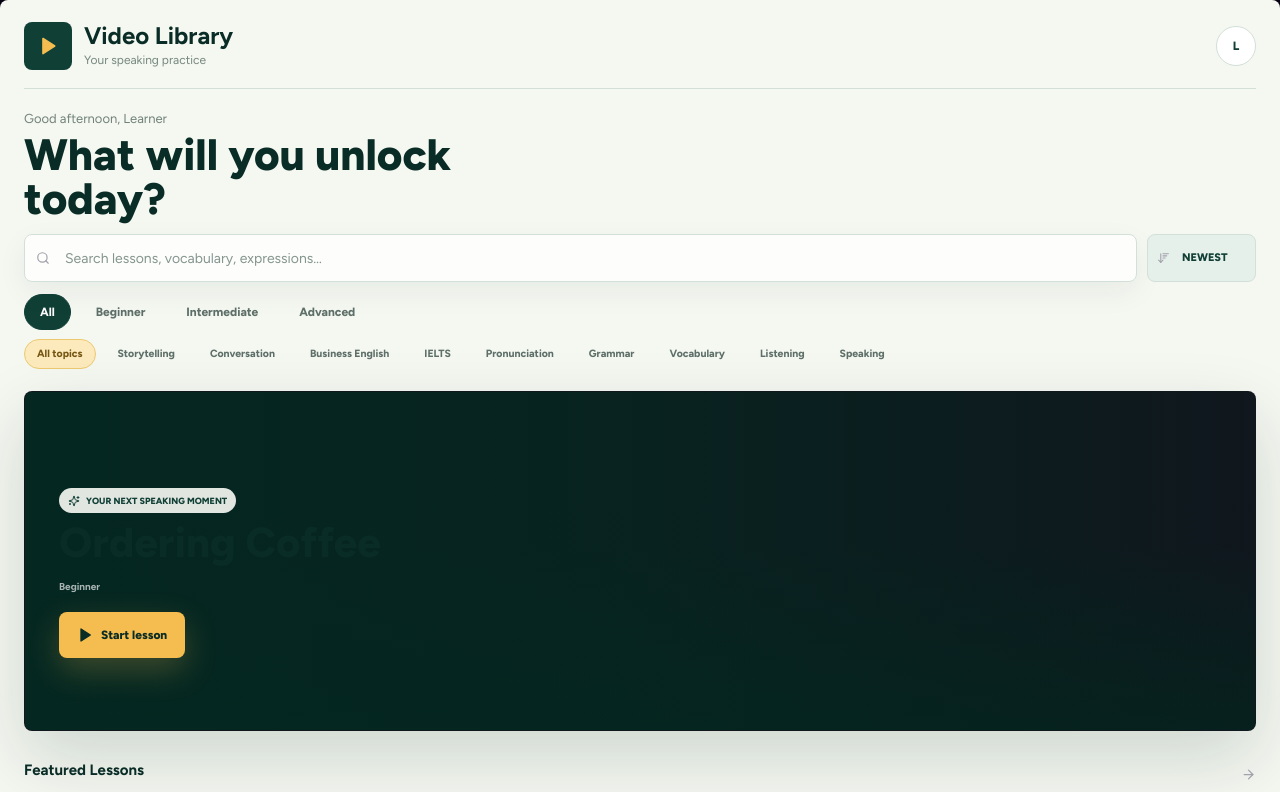
Test: clearing the search box removes the query and shows the search-specific empty state
Type "zzz-no-match" into the field with test id "video-library-search-input" at (580, 258), box x1=24 y1=234 x2=1137 y2=282
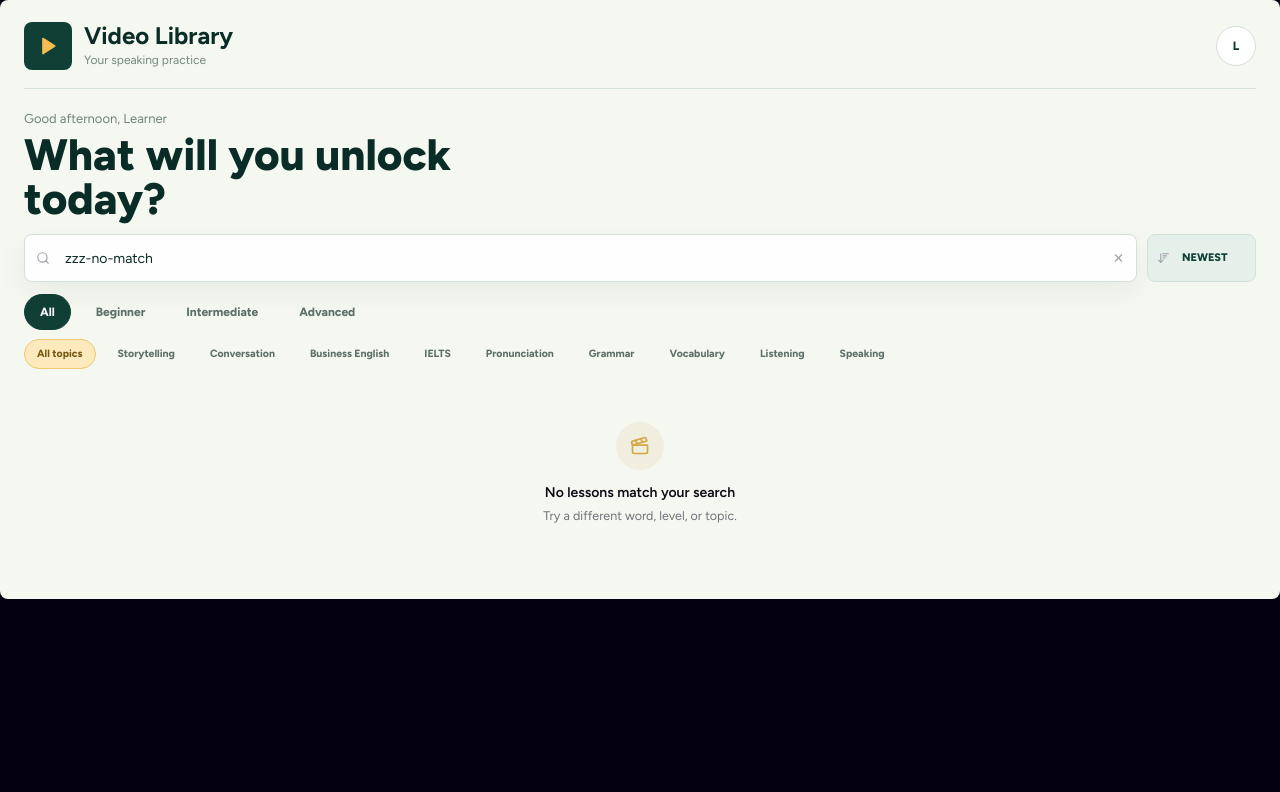
expect the text "No lessons match your search" is shown: met, box x1=545 y1=484 x2=735 y2=501
Click the button with test id "video-library-search-clear" at (1118, 258), box x1=1112 y1=252 x2=1125 y2=265
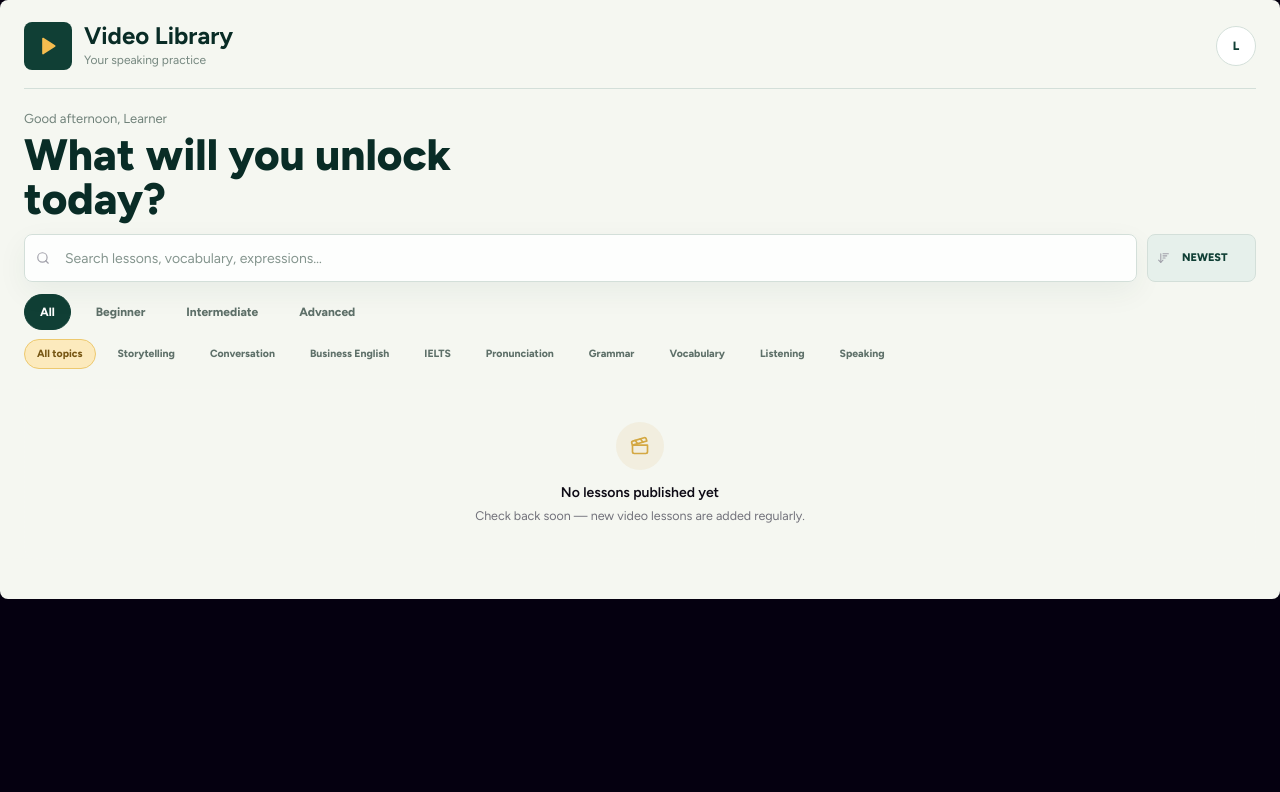
expect the field with test id "video-library-search-input" is empty: met, box x1=24 y1=234 x2=1137 y2=282
